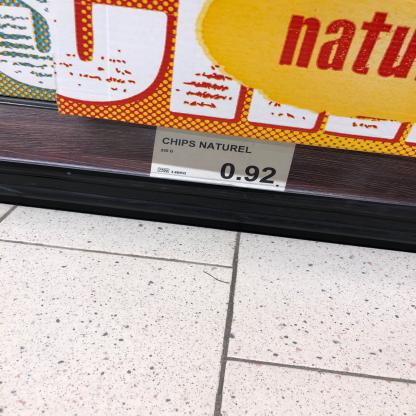prtg: (150, 127, 298, 193)
